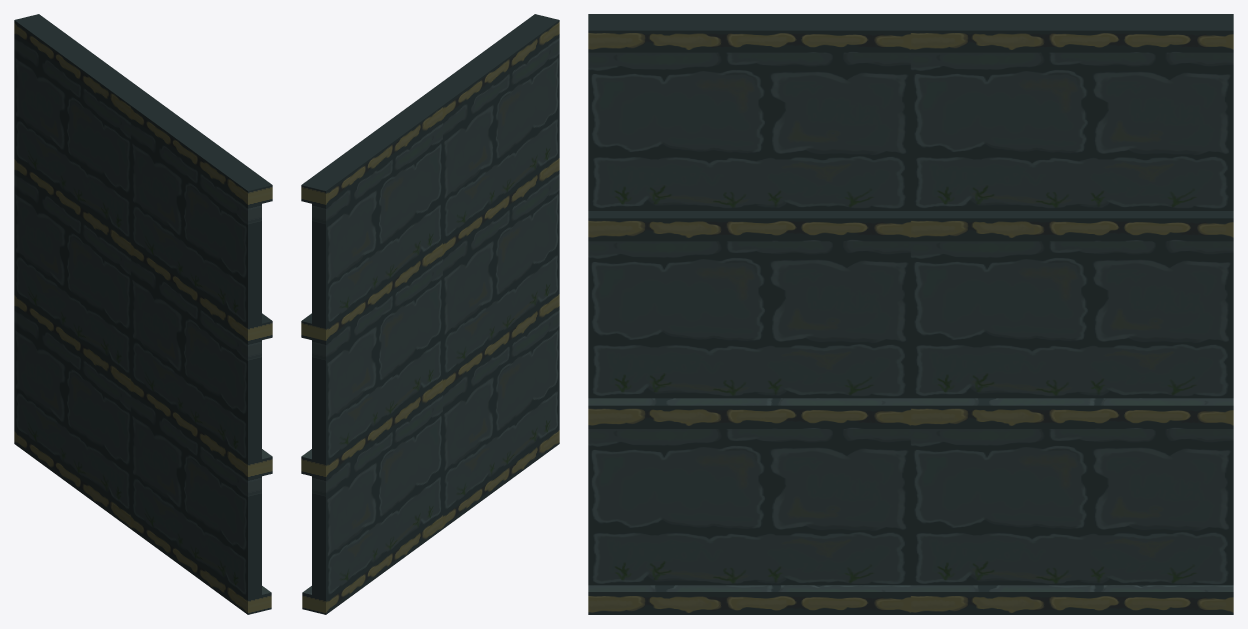
Rendered from wall.fbx.
3 renders of one model, left to right at view 1: azimuth 30°, elevation 25°; view 2: azimuth 150°, elevation 25°; view 3: azimuth 270°, elevation 25°, orthographic. The views are drawn at different scales.
Visible parts, largest first — view 1: Plane.001, Plane.002; view 2: Plane.002, Plane.001; view 3: Plane.001, Plane.002.
Part boxes in pixels (<box>): Plane.001: <box>131,99,272,614</box>; Plane.002: <box>14,14,155,528</box>; Plane.002: <box>301,99,442,614</box>; Plane.001: <box>418,14,559,528</box>; Plane.001: <box>588,14,910,614</box>; Plane.002: <box>911,14,1233,614</box>.
Size of the model in its own units: 36.71 by 600 by 600.
1 material, 1 textured.
